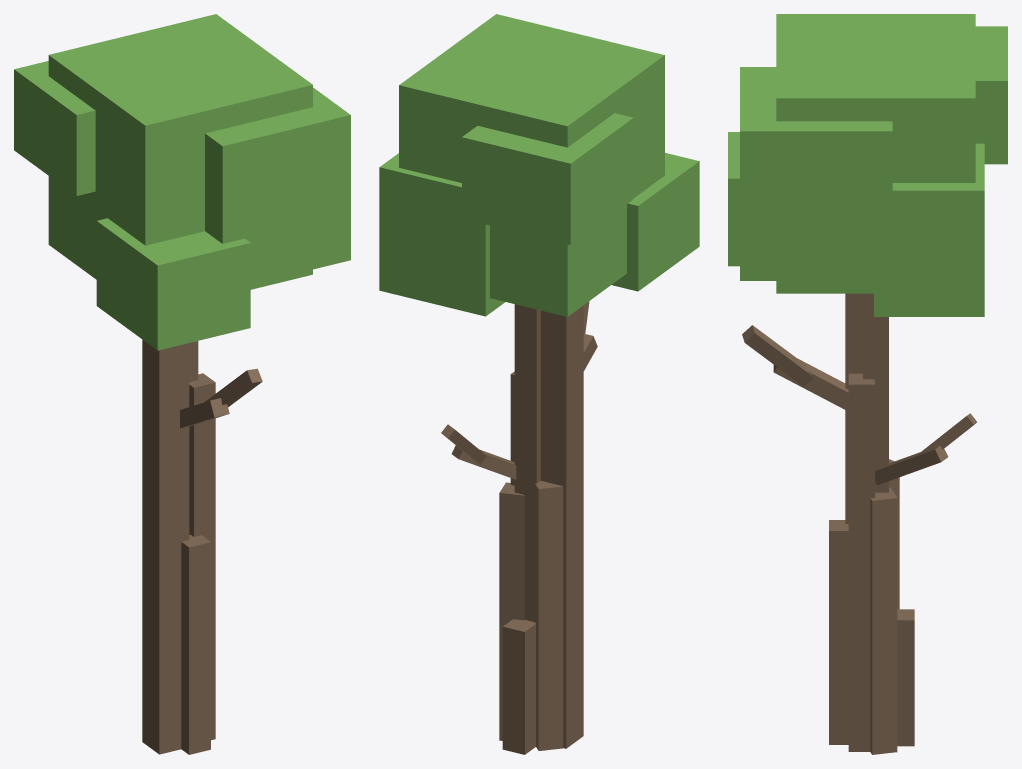
Rendered from SM_Tree_01_A.fbx.
3 renders of one model, left to right at view 1: azimuth 30°, elevation 25°; view 2: azimuth 150°, elevation 25°; view 3: azimuth 270°, elevation 25°, orthographic. The views are drawn at different scales.
Visible parts, largest first — view 1: pCube211; view 2: pCube211; view 3: pCube211.
Part boxes in pixels (x1,y1,x2,y2): pCube211: (14,14,350,754); pCube211: (379,14,699,754); pCube211: (728,14,1007,754).
Bounding box in the file's own units: 80.31 × 247 × 91.36.
